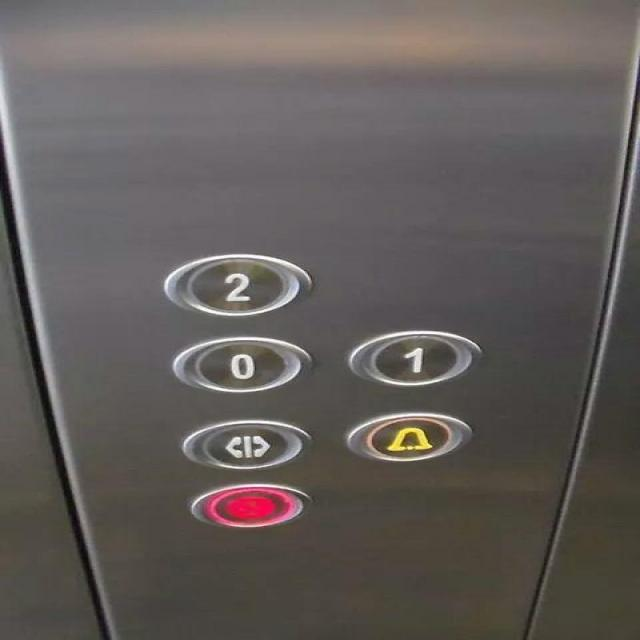0: (168, 337, 313, 392)
1: (347, 328, 485, 386)
2: (159, 252, 313, 316)
alarm: (342, 412, 474, 462)
fan: (186, 482, 314, 528)
open: (176, 418, 313, 469)
